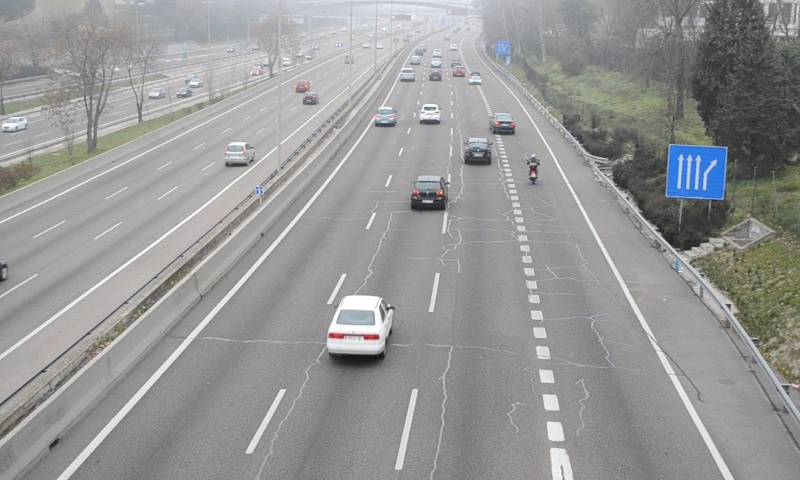car: (326, 296, 394, 354), (411, 176, 448, 208), (462, 138, 492, 166), (490, 113, 516, 136), (373, 106, 396, 127), (418, 104, 442, 122), (400, 65, 415, 82)
motorcycle: (526, 153, 540, 187)
